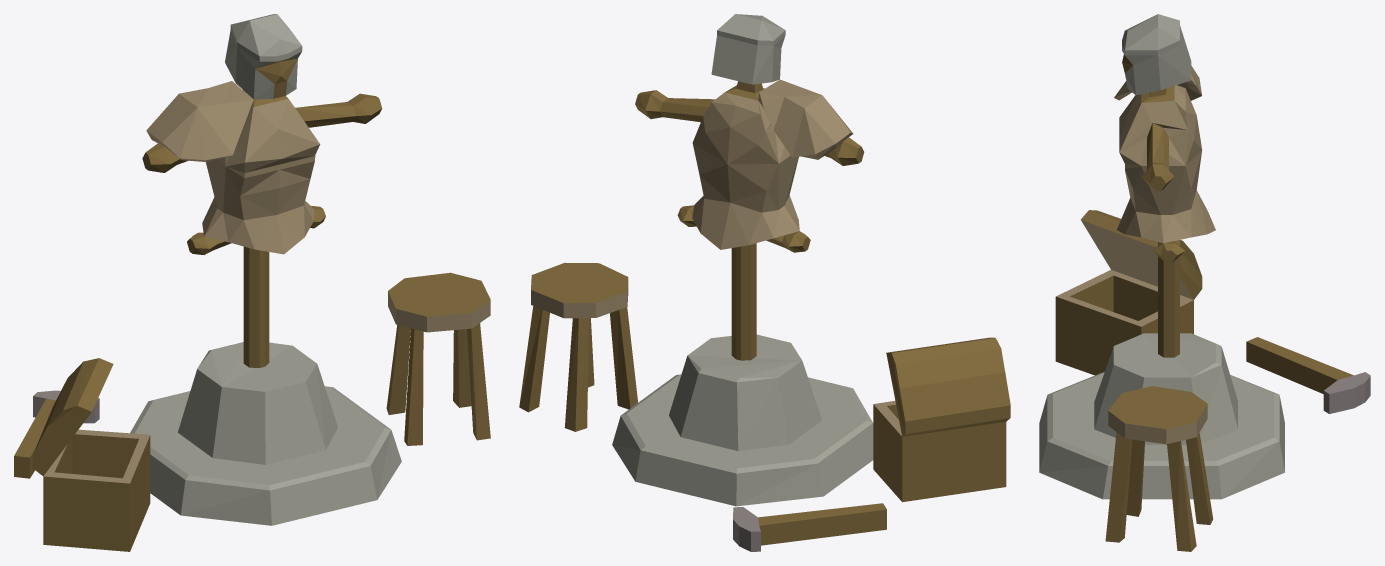
File: armour-repair-stand.gltf
The picture shows the model from 3 angles, left to right: view 1: azimuth 30°, elevation 25°; view 2: azimuth 150°, elevation 25°; view 3: azimuth 270°, elevation 25°; orthographic projection. The views are drawn at different scales.
Size of the model in its own units: 189 by 171 by 120.
1 material, 1 textured.
